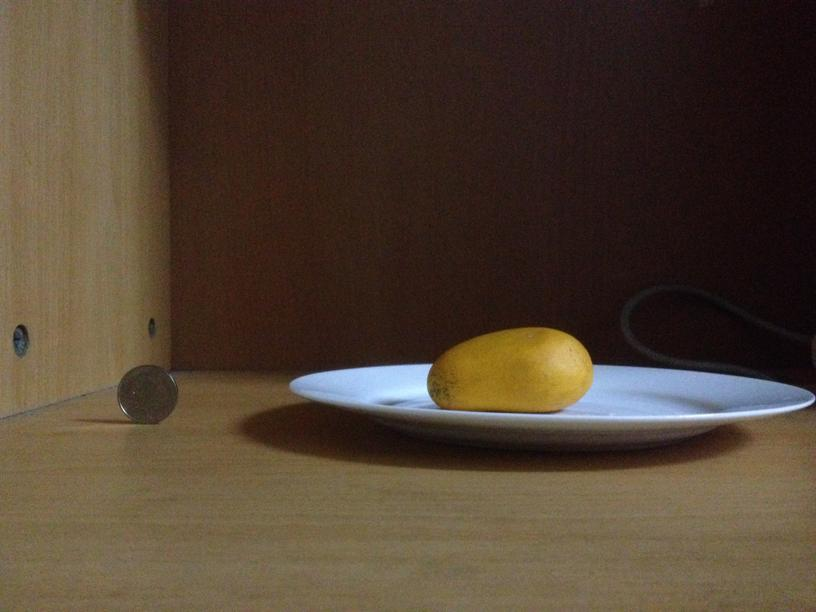coin: (115, 365, 178, 424)
mango: (425, 330, 591, 412)
